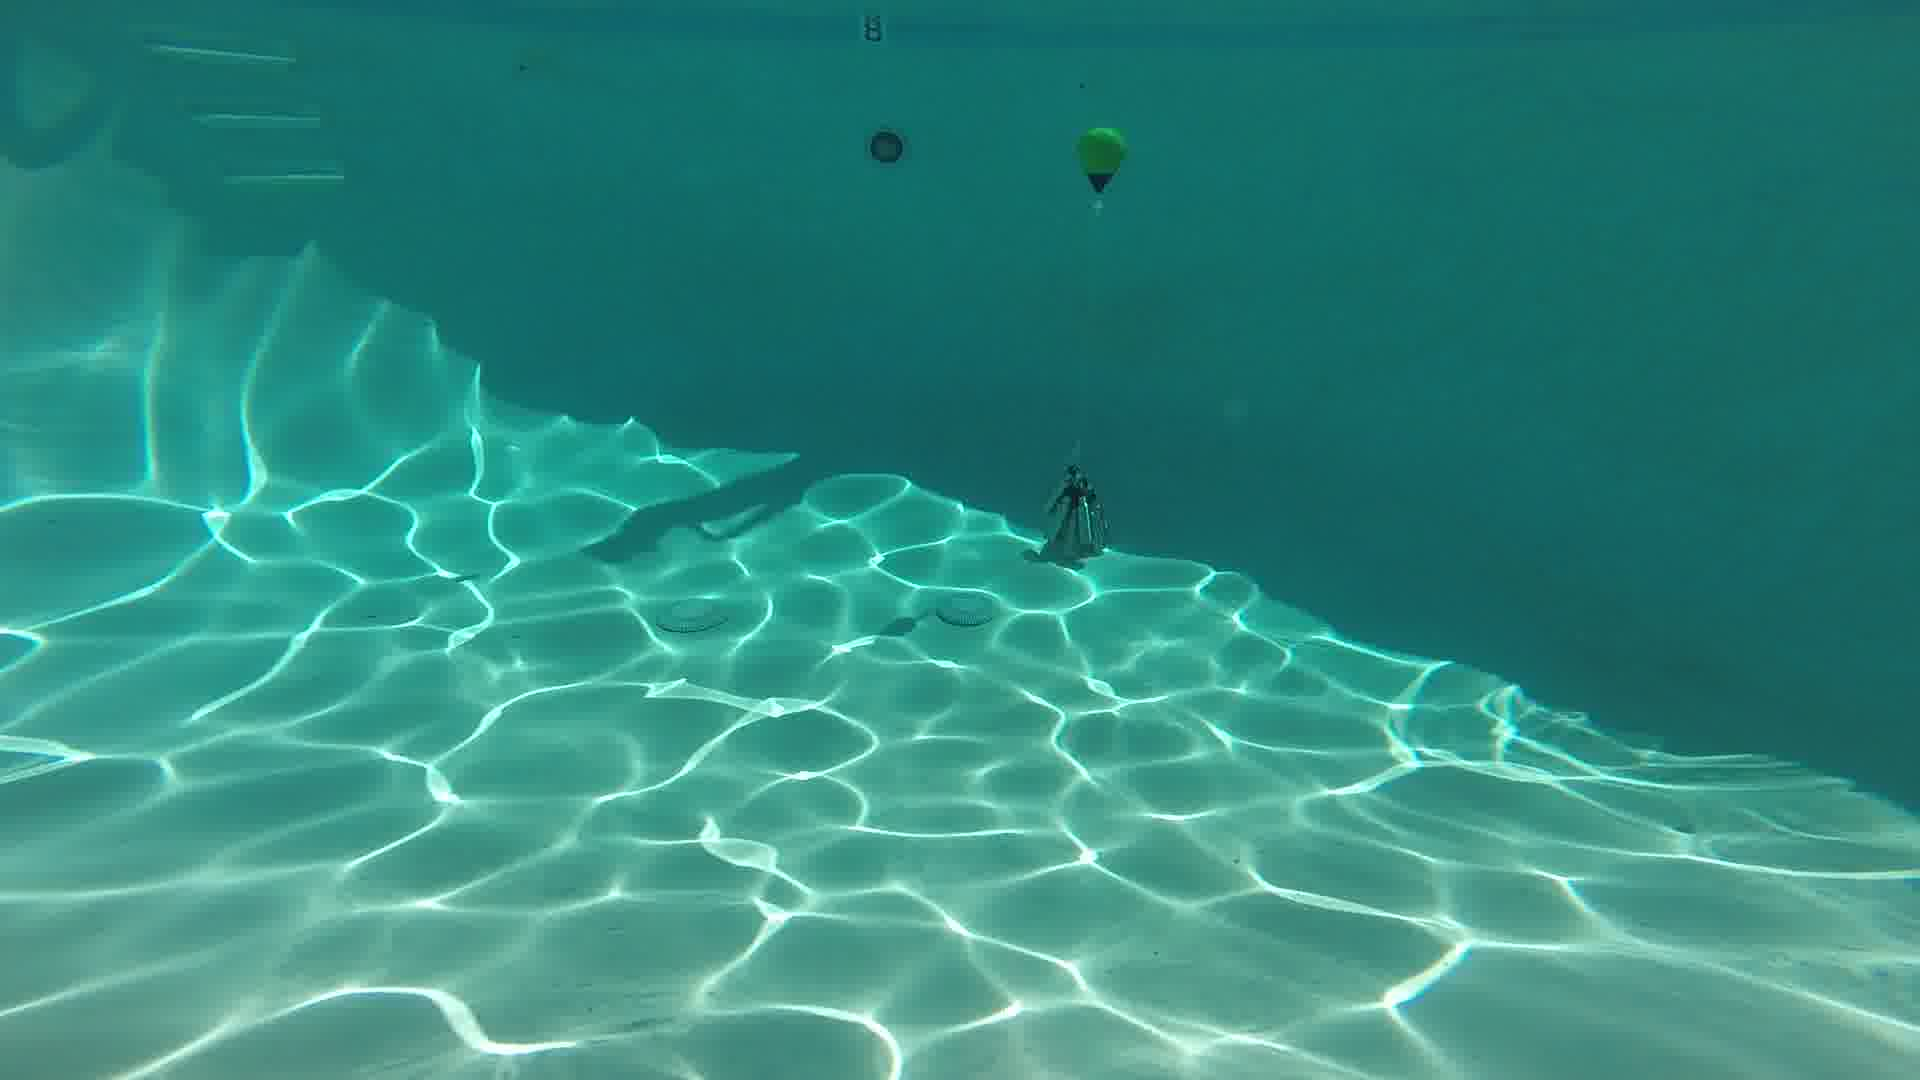yellow_buoy: (1077, 128, 1124, 194)
